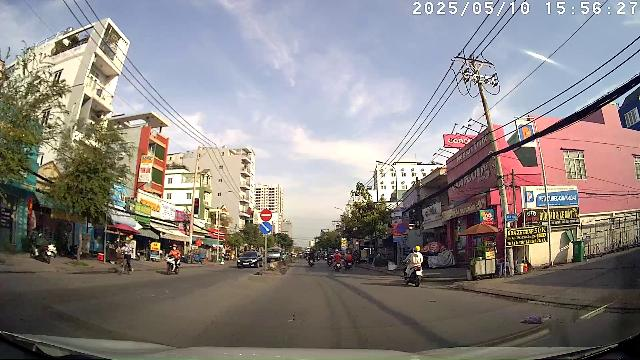102-cam-di-nguoc-chieu: (260, 209, 272, 221)
131a-cam-do-xe: (396, 223, 407, 234)
302a-huong-phai-di-vong-chuong-ngai-vat-1: (260, 221, 272, 234)
